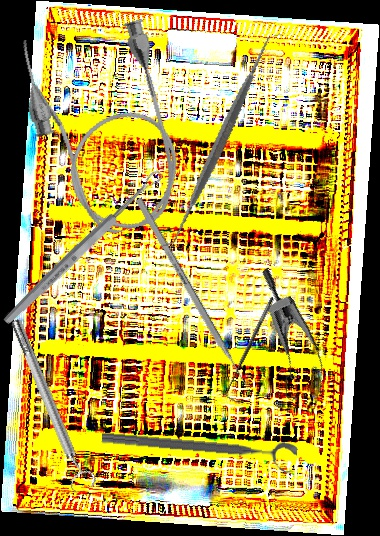Cannula: (9, 6, 198, 248)
Fixation Ring: (2, 314, 100, 496), (99, 426, 299, 476)
Hook Surgical: (220, 295, 282, 403)
Pusher: (134, 197, 256, 399)
Spatula Surgical: (114, 33, 327, 248)
Speculum: (216, 267, 350, 412)
Surgical Spoon: (0, 167, 166, 328)
